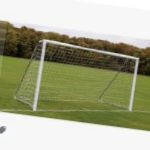goals: (13, 37, 141, 120)
